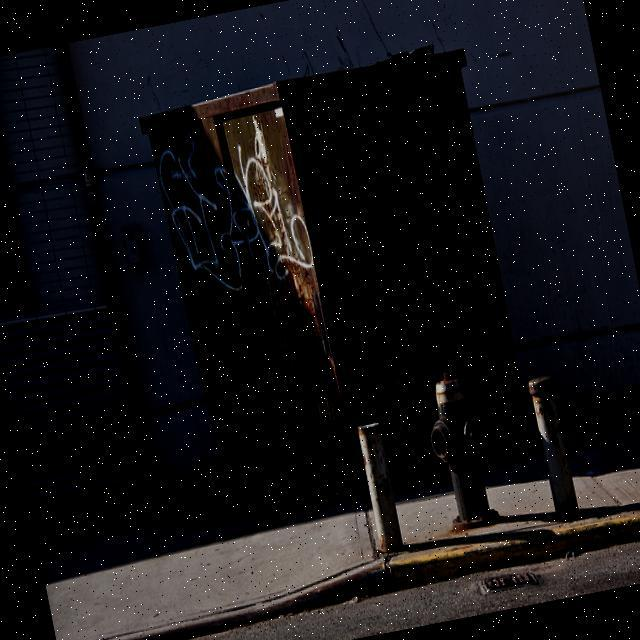fire_hydrant: (417, 369, 492, 527)
